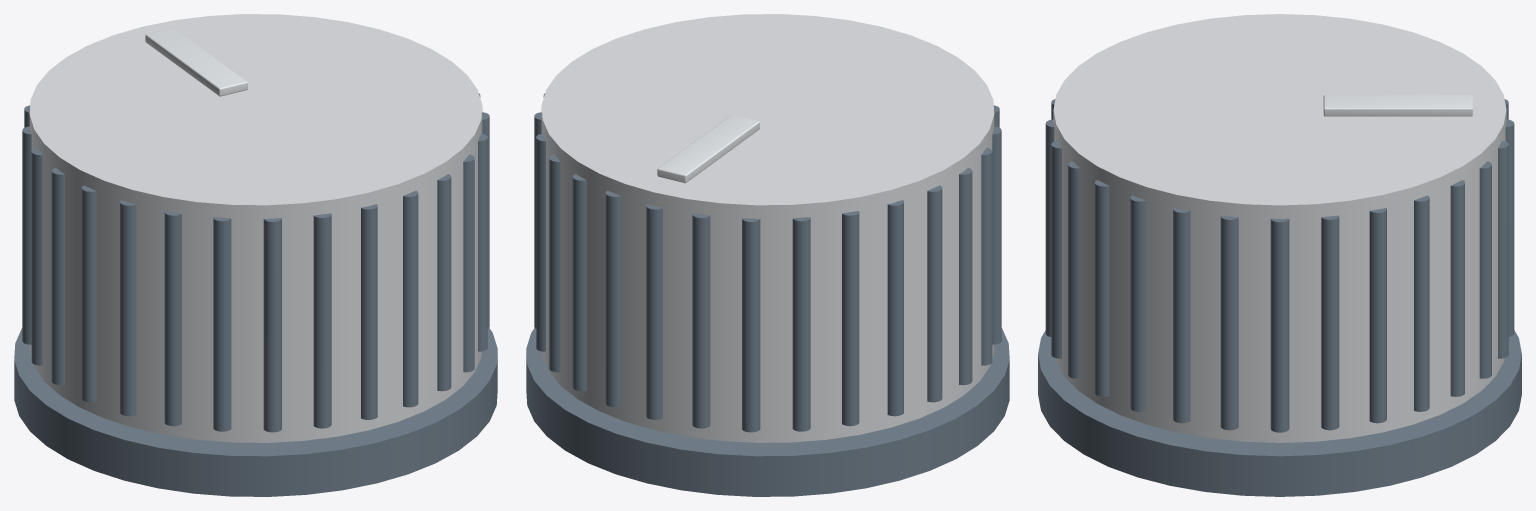
Rendered from MODESWITCH.glb.
3 renders of one model, left to right at view 1: azimuth 30°, elevation 25°; view 2: azimuth 150°, elevation 25°; view 3: azimuth 270°, elevation 25°, orthographic.
Visible parts, largest first — view 1: MODESWITCH/0000_grip, MODESWITCH/0001_flange, MODESWITCH/0022_knurl, MODESWITCH/0020_knurl, MODESWITCH/0021_knurl, MODESWITCH/0019_knurl, MODESWITCH/0018_knurl, MODESWITCH/0023_knurl, MODESWITCH/0017_knurl, MODESWITCH/0024_knurl, MODESWITCH/0025_knurl, MODESWITCH/0016_knurl (+6 smaller); view 2: MODESWITCH/0000_grip, MODESWITCH/0001_flange, MODESWITCH/0010_knurl, MODESWITCH/0012_knurl, MODESWITCH/0011_knurl, MODESWITCH/0013_knurl, MODESWITCH/0009_knurl, MODESWITCH/0014_knurl, MODESWITCH/0015_knurl, MODESWITCH/0008_knurl, MODESWITCH/0007_knurl, MODESWITCH/0016_knurl (+6 smaller); view 3: MODESWITCH/0000_grip, MODESWITCH/0001_flange, MODESWITCH/0002_knurl, MODESWITCH/0003_knurl, MODESWITCH/0029_knurl, MODESWITCH/0004_knurl, MODESWITCH/0028_knurl, MODESWITCH/0005_knurl, MODESWITCH/0027_knurl, MODESWITCH/0030_index_mark, MODESWITCH/0006_knurl, MODESWITCH/0026_knurl (+6 smaller).
Part boxes in pixels (x1,y1,x2,y2): MODESWITCH/0000_grip: (29,14,482,442); MODESWITCH/0001_flange: (14,328,497,496); MODESWITCH/0022_knurl: (313,213,331,428); MODESWITCH/0020_knurl: (213,217,231,431); MODESWITCH/0021_knurl: (263,218,281,432); MODESWITCH/0019_knurl: (164,211,181,426); MODESWITCH/0018_knurl: (120,200,136,416); MODESWITCH/0023_knurl: (361,204,377,419); MODESWITCH/0017_knurl: (81,185,96,402); MODESWITCH/0024_knurl: (403,190,418,407); MODESWITCH/0025_knurl: (437,174,451,391); MODESWITCH/0016_knurl: (51,167,64,385); MODESWITCH/0000_grip: (541,14,994,442); MODESWITCH/0001_flange: (526,328,1009,496); MODESWITCH/0010_knurl: (692,213,710,428); MODESWITCH/0012_knurl: (792,217,810,431); MODESWITCH/0011_knurl: (742,218,760,432); MODESWITCH/0013_knurl: (842,211,859,426); MODESWITCH/0009_knurl: (646,204,662,419); MODESWITCH/0014_knurl: (887,200,903,416); MODESWITCH/0015_knurl: (927,185,942,402); MODESWITCH/0008_knurl: (605,190,620,407); MODESWITCH/0007_knurl: (572,174,586,391); MODESWITCH/0016_knurl: (959,167,972,385); MODESWITCH/0000_grip: (1053,14,1506,442); MODESWITCH/0001_flange: (1038,330,1521,496); MODESWITCH/0002_knurl: (1270,218,1289,432); MODESWITCH/0003_knurl: (1321,215,1339,430); MODESWITCH/0029_knurl: (1220,215,1238,430); MODESWITCH/0004_knurl: (1369,208,1386,423); MODESWITCH/0028_knurl: (1173,208,1190,423); MODESWITCH/0005_knurl: (1414,195,1429,411); MODESWITCH/0027_knurl: (1130,195,1145,411); MODESWITCH/0030_index_mark: (1323,95,1472,116); MODESWITCH/0006_knurl: (1450,180,1464,396); MODESWITCH/0026_knurl: (1095,180,1109,396).
Size of the model in its own units: 0.0517 by 0.0346 by 0.0517.
